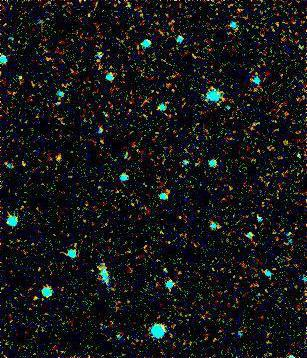star: (43, 145, 73, 175)
